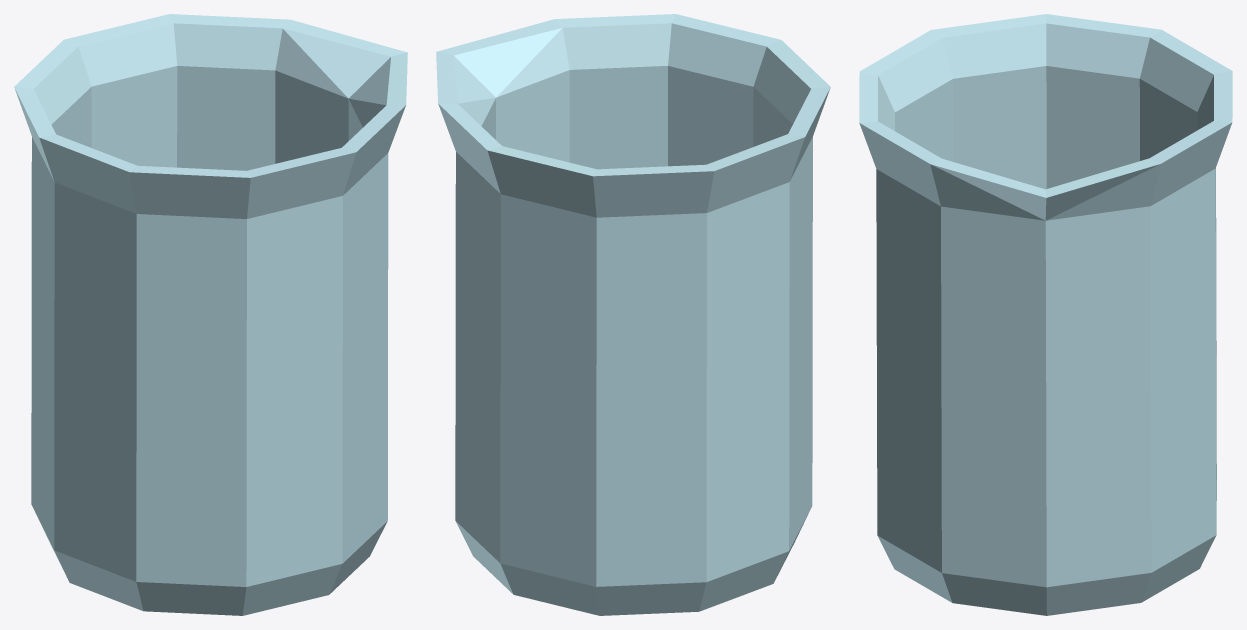
File: beaker4.glb
3 renders of one model, left to right at view 1: azimuth 30°, elevation 25°; view 2: azimuth 150°, elevation 25°; view 3: azimuth 270°, elevation 25°, orthographic.
Visible parts, largest first — view 1: beaker; view 2: beaker; view 3: beaker.
Boxes of the visible parts, left/top/right/bottom form: beaker: left=14, top=14, right=407, bottom=615; beaker: left=436, top=14, right=830, bottom=615; beaker: left=859, top=14, right=1232, bottom=615.
Bounding box in the file's own units: 32.54 × 38.3 × 28.69.
